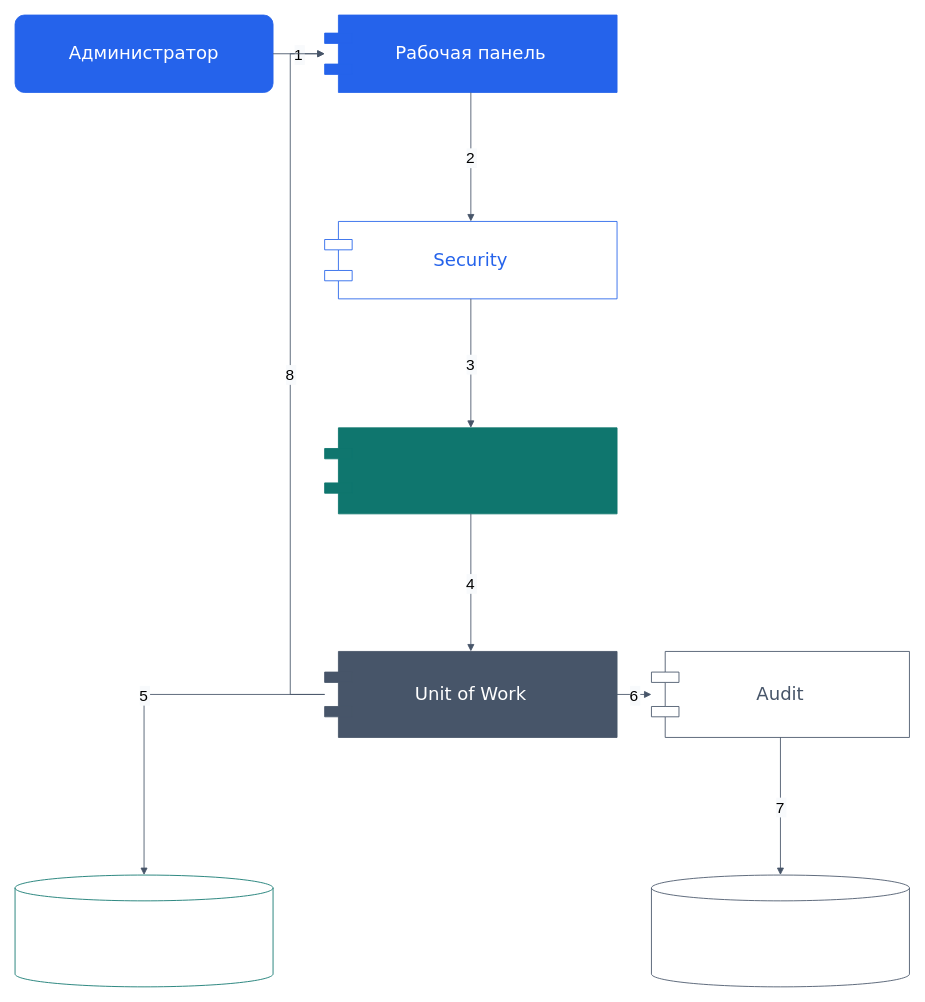
This 925x1002 diagram has some shape labels left out. Each missing label, with the centre of its shape:
D2 Ноды / тарифы: the point at 143,930
D6 Аудит: the point at 780,930
Infrastructure: the point at 470,470
